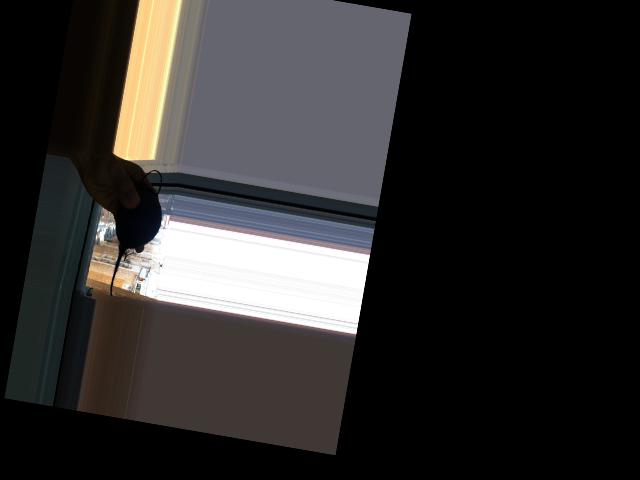beet: (102, 165, 169, 302)
